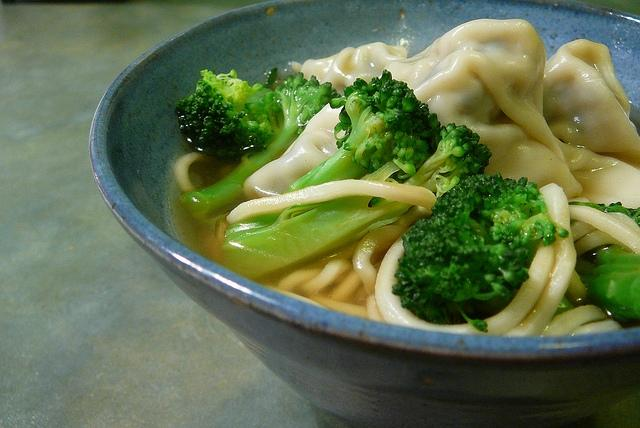broccoli: (179, 72, 342, 221), (280, 69, 442, 195), (391, 210, 532, 334), (175, 67, 285, 160), (568, 201, 640, 324)
